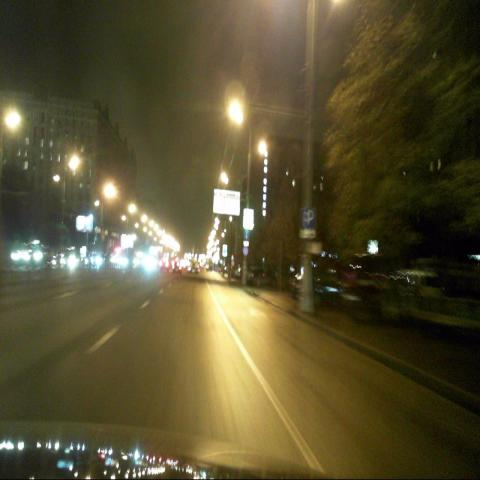5_14: (244, 229, 250, 240)
6_4: (305, 206, 316, 228)
